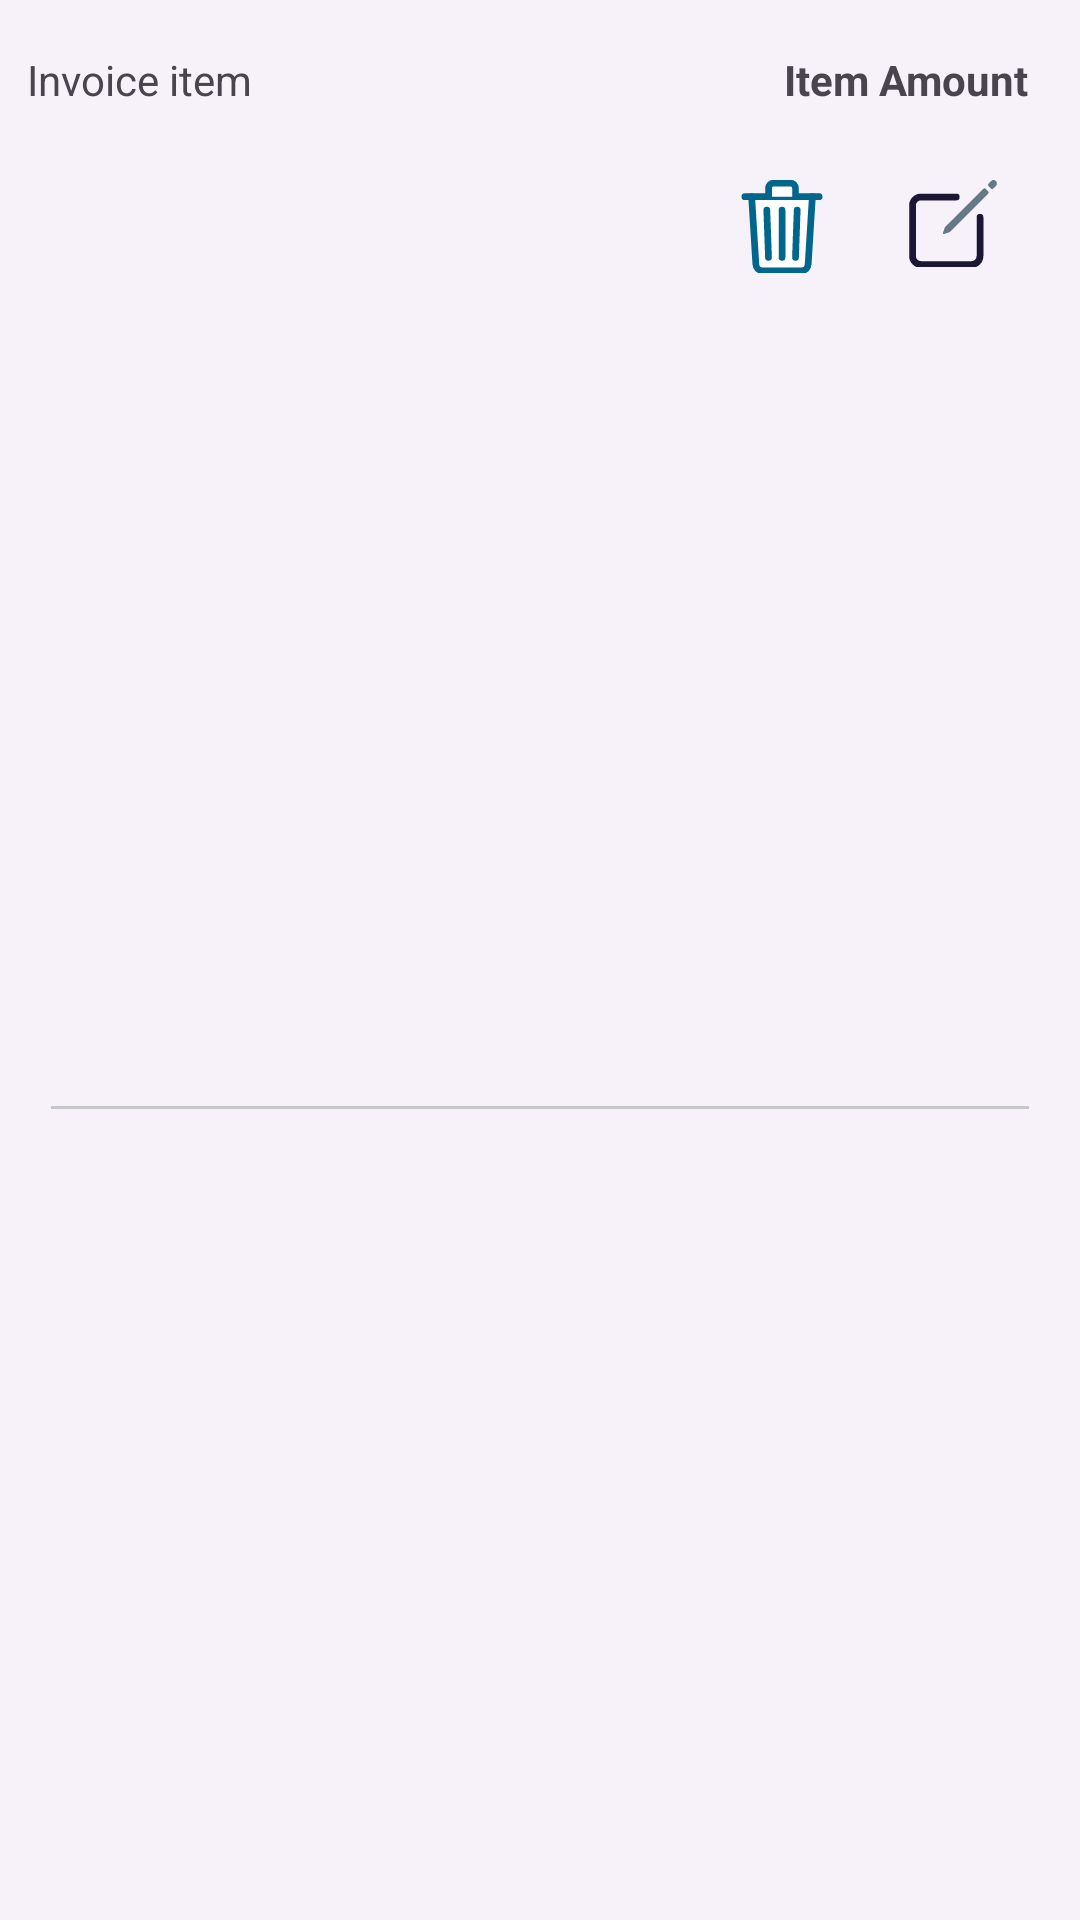

Where to tap for icons on this 1080px x 1920px app screen, as (x,y):
create: (953,223)
trash: (782,226)
